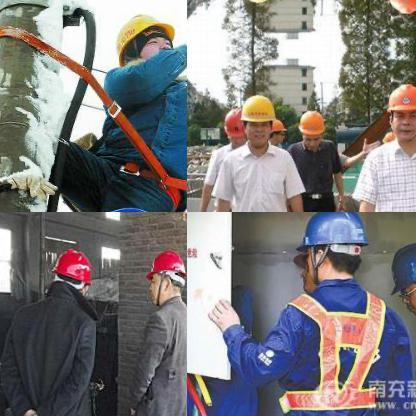Helmet: (293, 212, 373, 286), (112, 5, 183, 70), (142, 244, 186, 302), (388, 233, 415, 316), (46, 243, 90, 293), (238, 92, 274, 146), (385, 82, 415, 141), (298, 110, 326, 145), (223, 110, 245, 146), (385, 0, 415, 16), (267, 118, 285, 144)
